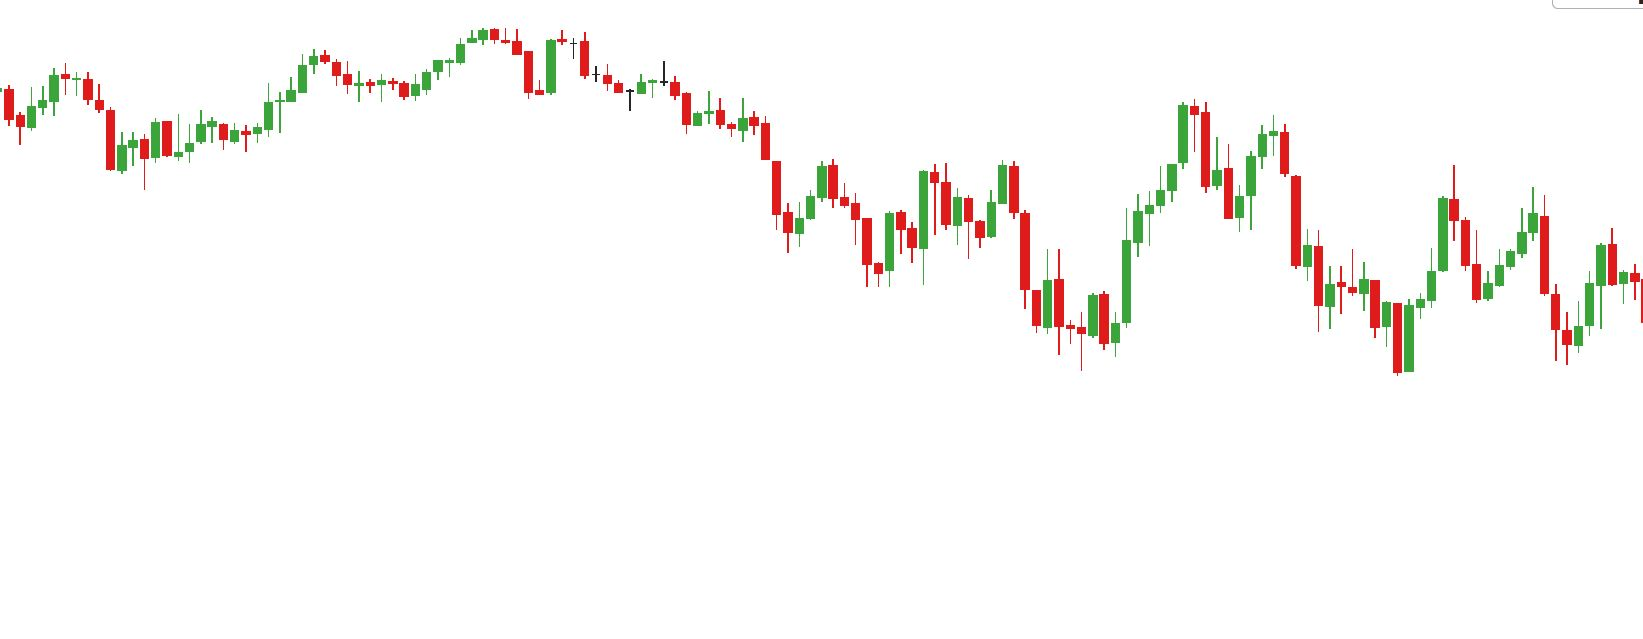buy: (860, 215, 1054, 338), (15, 90, 136, 177)
